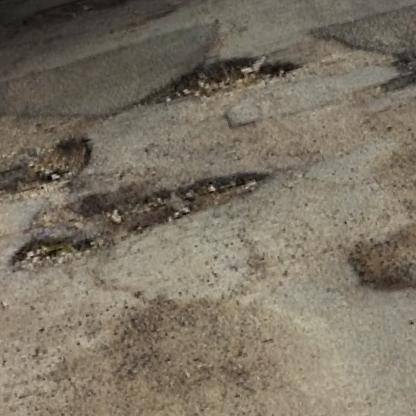pothole: (0, 144, 278, 272), (132, 39, 301, 119), (338, 173, 416, 308), (0, 129, 100, 228), (373, 41, 416, 96)
